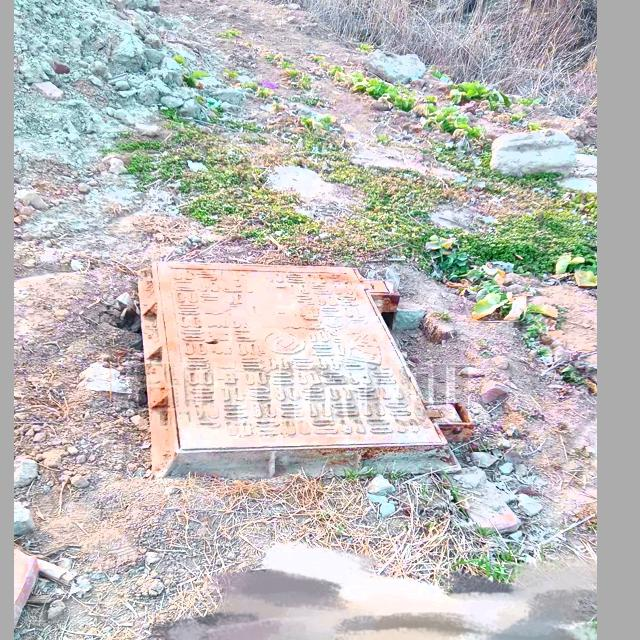circle: (127, 254, 474, 483)
